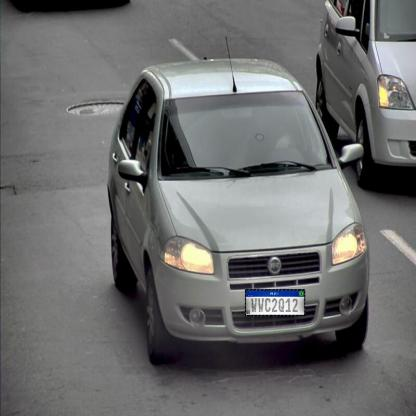PlacaM: (245, 289, 305, 316)
